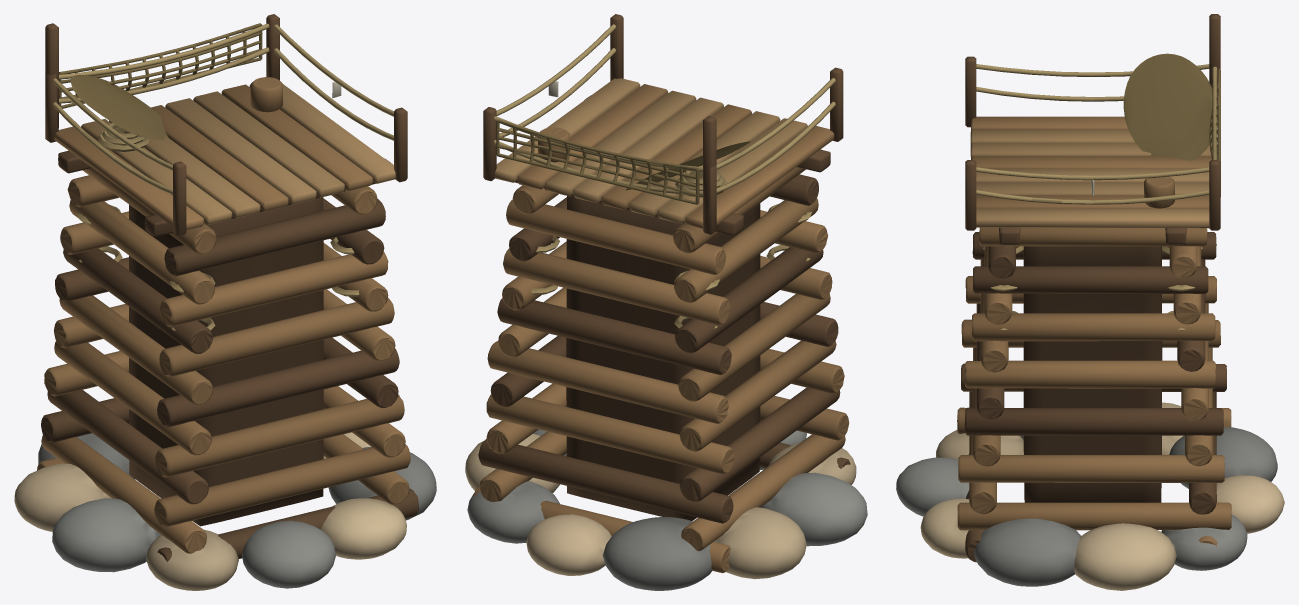
Rendered from lookout_deck_b.glb.
3 renders of one model, left to right at view 1: azimuth 30°, elevation 25°; view 2: azimuth 150°, elevation 25°; view 3: azimuth 270°, elevation 25°, orthographic. The views are drawn at different scales.
Parts seen in each view (by area): view 1: Surface; view 2: Surface; view 3: Surface.
Boxes of the visible parts, x1=… form: Surface: x1=14, y1=14, x2=436, y2=590; Surface: x1=465, y1=14, x2=867, y2=590; Surface: x1=896, y1=14, x2=1284, y2=590.
Size of the model in its own units: 7.18 by 9.06 by 7.01.
